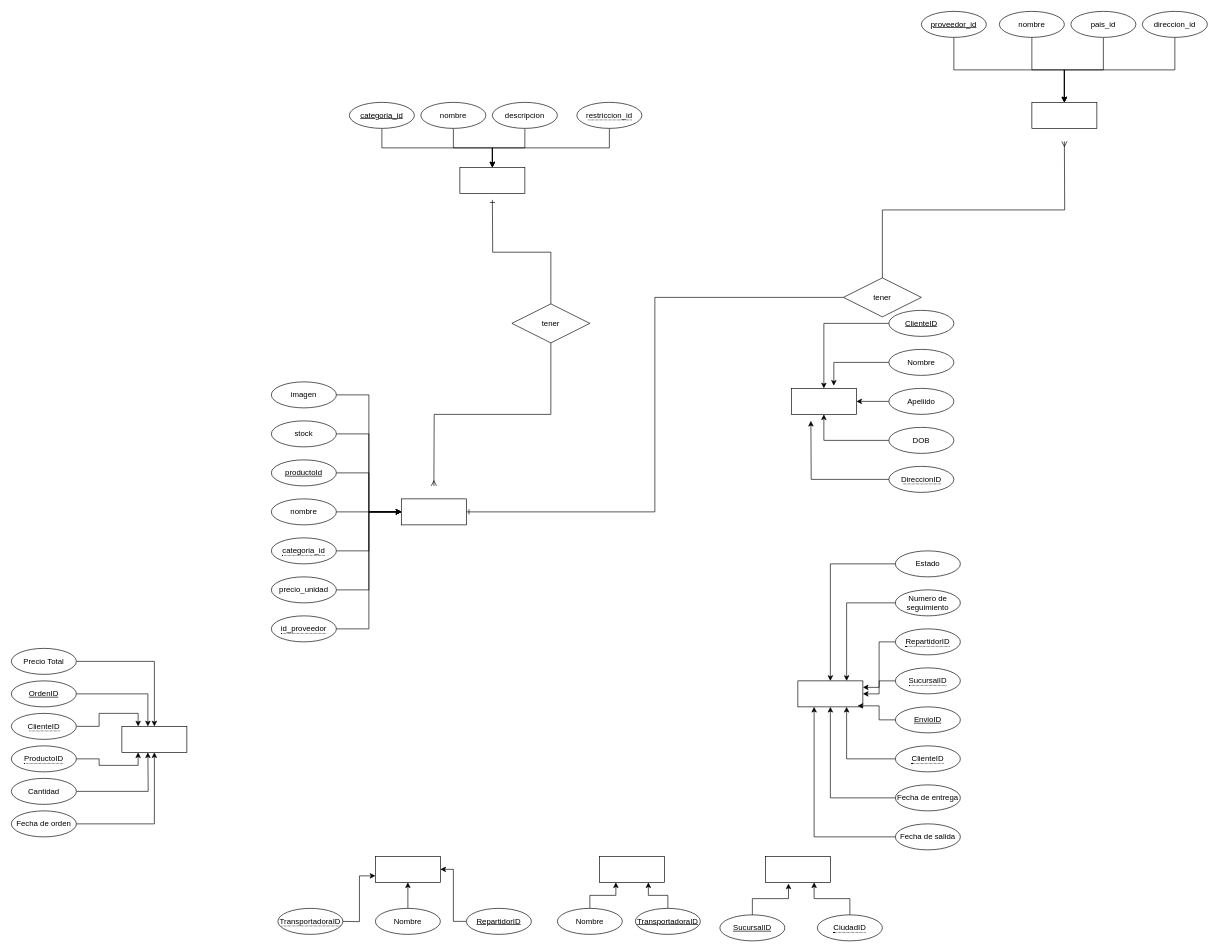
The diagram is 1219 pixels wide and 952 high, and some of its shapes have lost their labels. The box of each missing label's shape, as (x1, y1, x2, y2) in pixels:
cateogoria: (459, 167, 525, 193)
Cliente: (791, 388, 856, 414)
Informacion Envio: (797, 680, 863, 707)
Orden: (121, 726, 187, 752)
Producto: (401, 498, 466, 525)
proveedor: (1031, 102, 1097, 128)
Repartidores: (375, 856, 440, 882)
Sucursales: (765, 856, 830, 882)
Transportadora: (599, 856, 665, 882)
